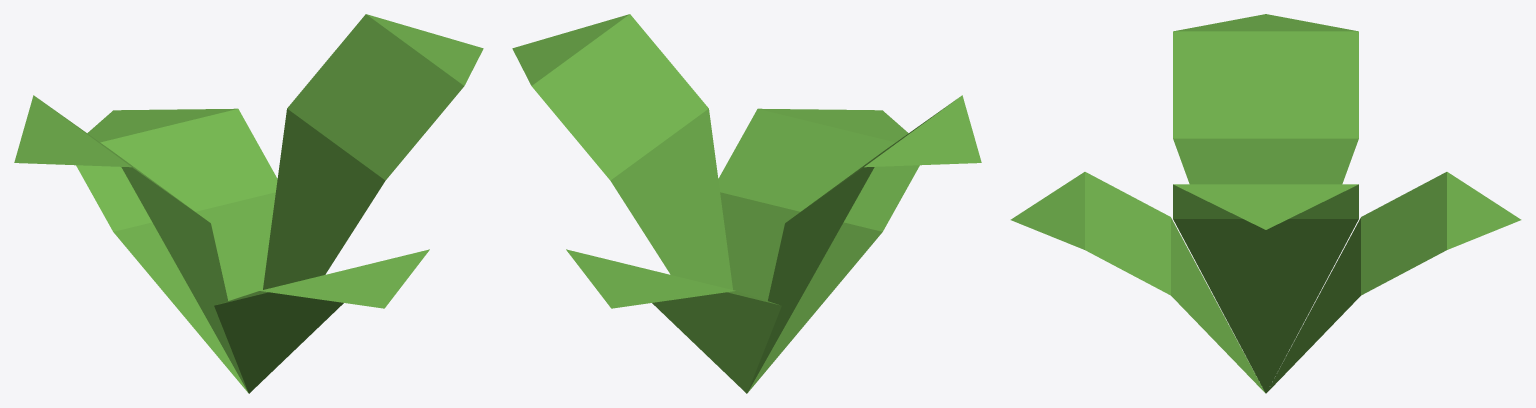
The model's file is plant_bush.glb.
3 renders of one model, left to right at view 1: azimuth 30°, elevation 25°; view 2: azimuth 150°, elevation 25°; view 3: azimuth 270°, elevation 25°, orthographic. The views are drawn at different scales.
Visible parts, largest first — view 1: plant_bush; view 2: plant_bush; view 3: plant_bush.
Part boxes in pixels (x1=…): plant_bush: x1=14, y1=14, x2=483, y2=393; plant_bush: x1=512, y1=14, x2=981, y2=393; plant_bush: x1=1010, y1=14, x2=1521, y2=393.
Bounding box in the file's own units: 0.396 × 0.2444 × 0.396.
